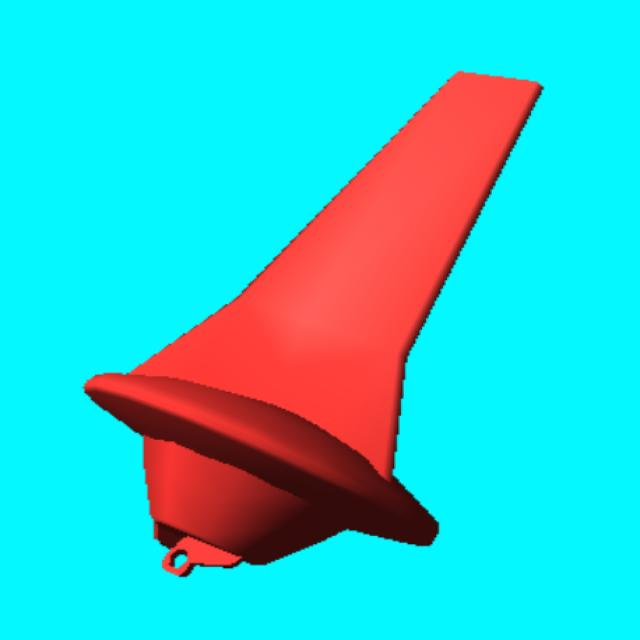RedBuoy: (87, 68, 546, 576)
